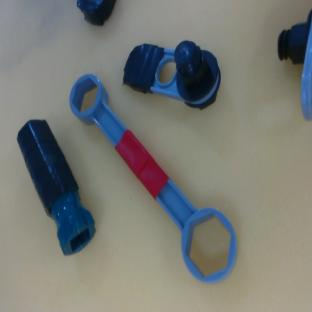part_1_bad: (119, 27, 228, 113)
part_1_good: (277, 10, 312, 121)
part_2_bad: (7, 114, 103, 258)
part_3_bad: (77, 1, 116, 26)
part_3_good: (43, 69, 255, 293)
